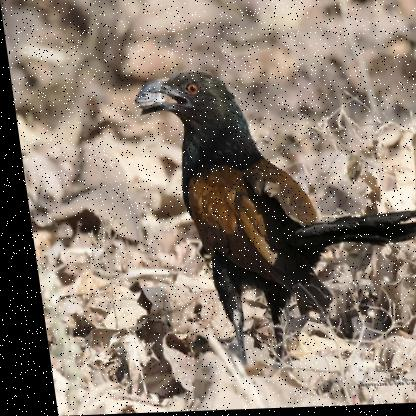Burung: (128, 64, 415, 371)
